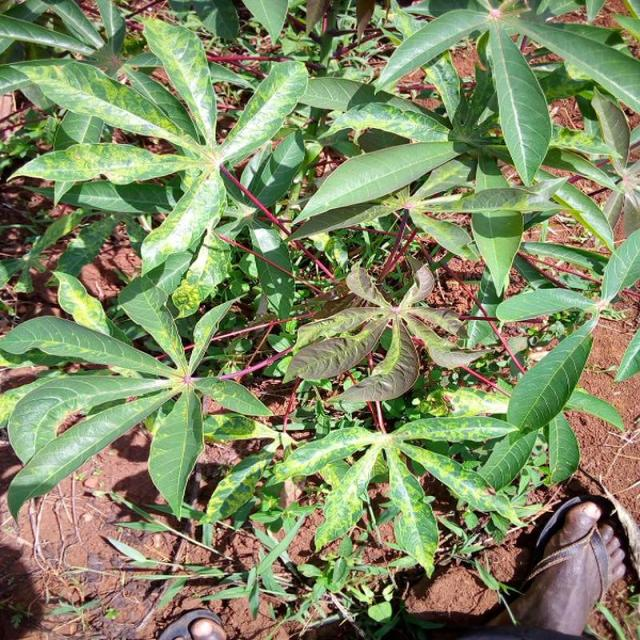Mosaico: (43, 40, 247, 245), (391, 85, 619, 246), (40, 287, 253, 450), (197, 404, 387, 559), (294, 411, 493, 535), (289, 268, 452, 394)
